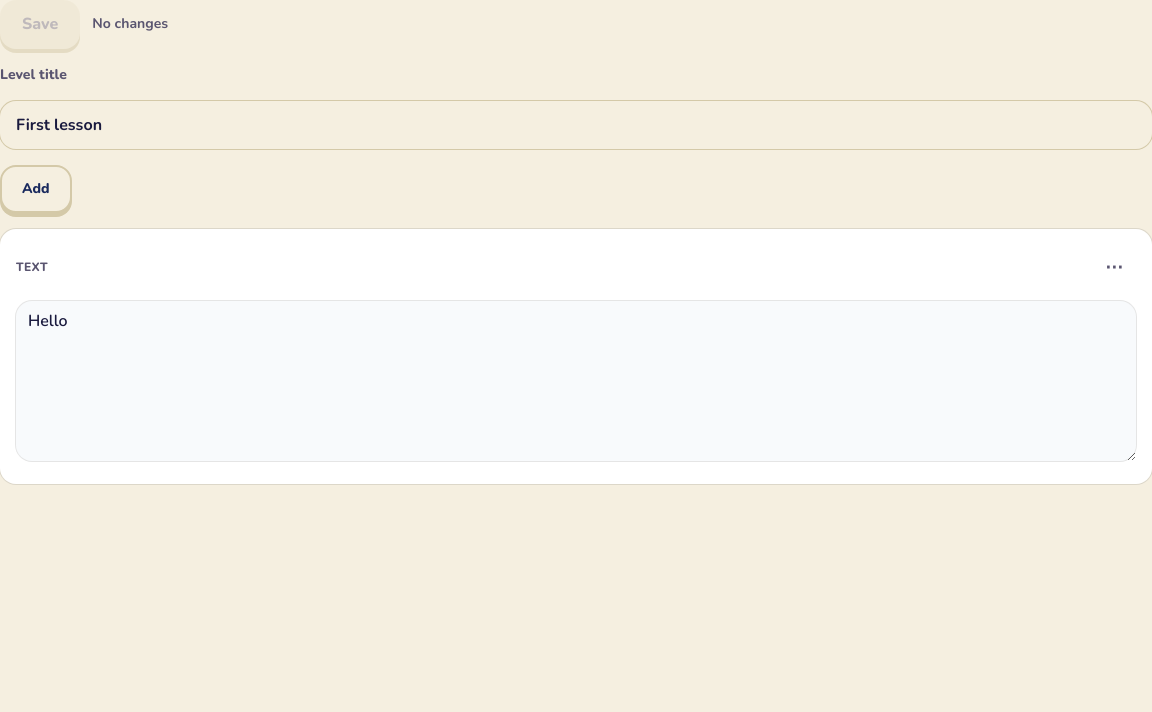
Test: TeachLevelEditor save › refuses Save until the new image is filled in
This screenshot has width=1152, height=712.
Click the button "Add" at (36, 189), box [0,165,72,213]
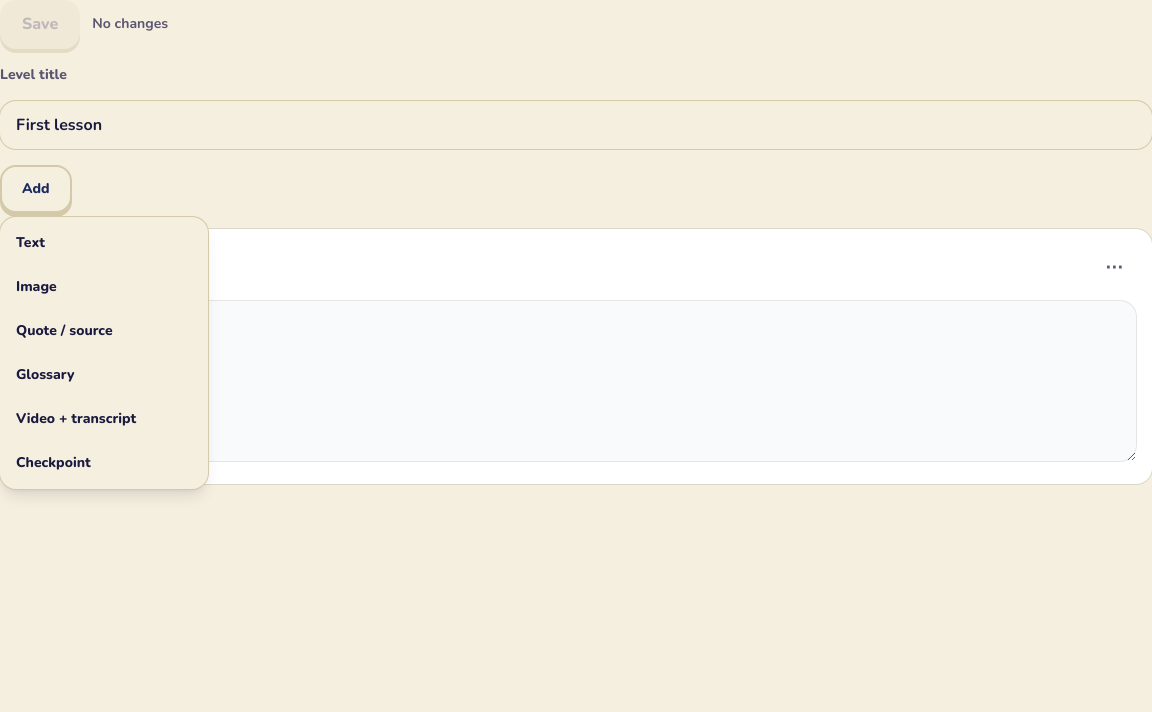
Click the button "Image" at (104, 287), box [4,265,204,309]
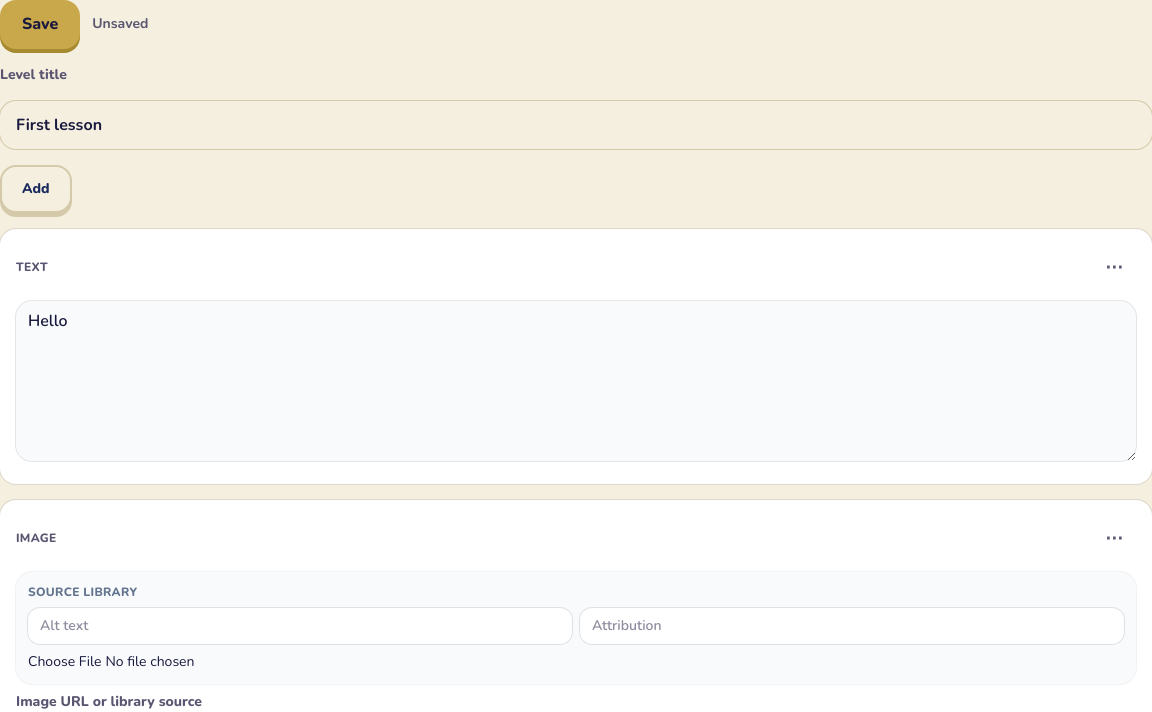
Click the button "Save" at (40, 24), box [0,0,80,49]
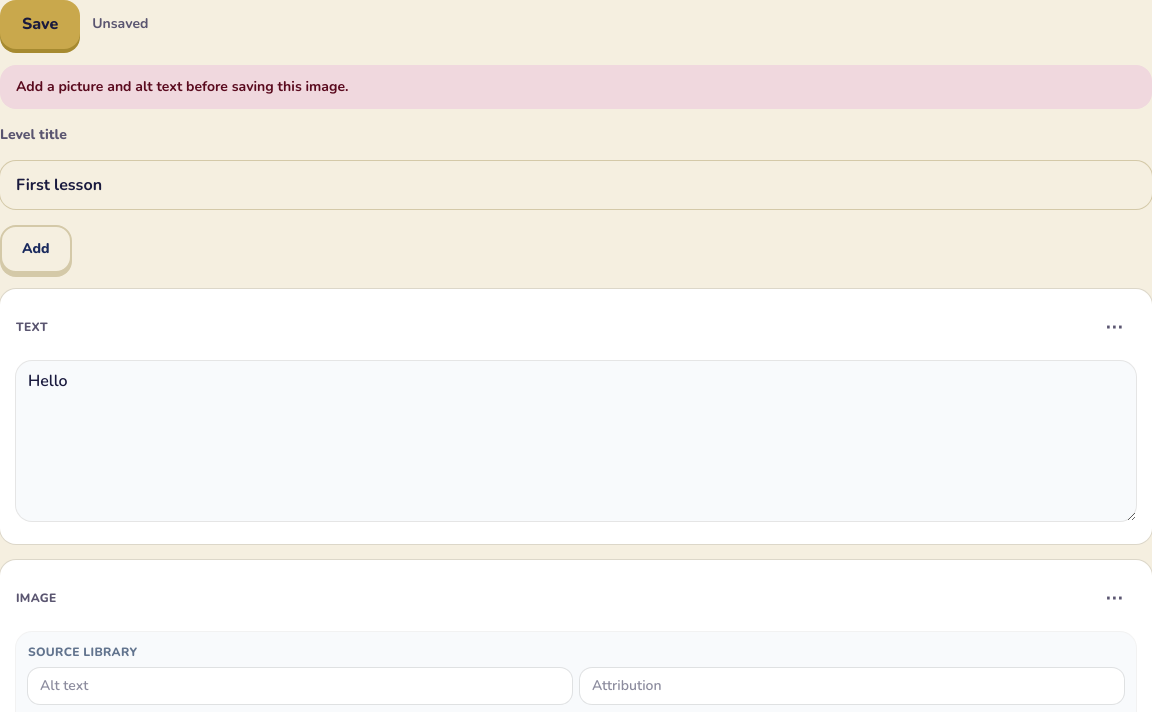
Now the text "Add a picture and alt text before saving this image." is shown, box [0,65,1151,109]
